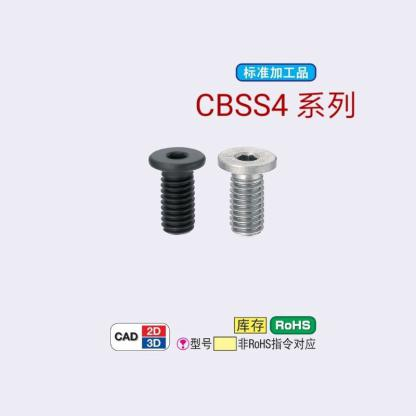FOD: (215, 145, 278, 237), (147, 145, 206, 237)
